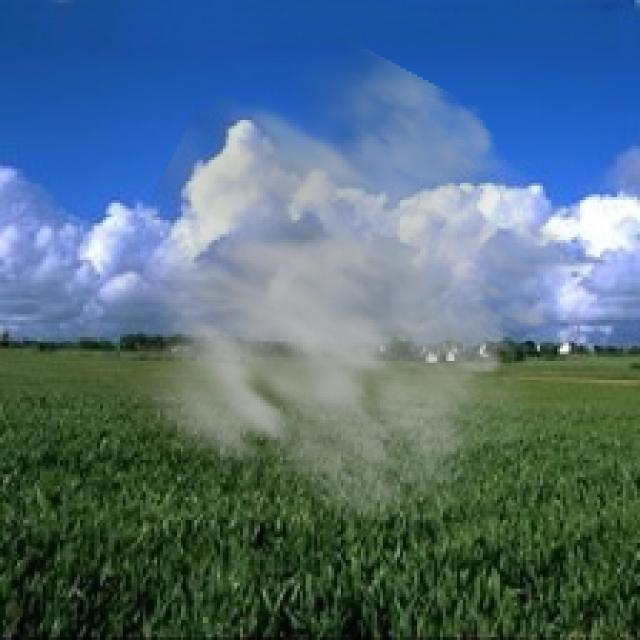Smoke: (60, 31, 589, 548)
